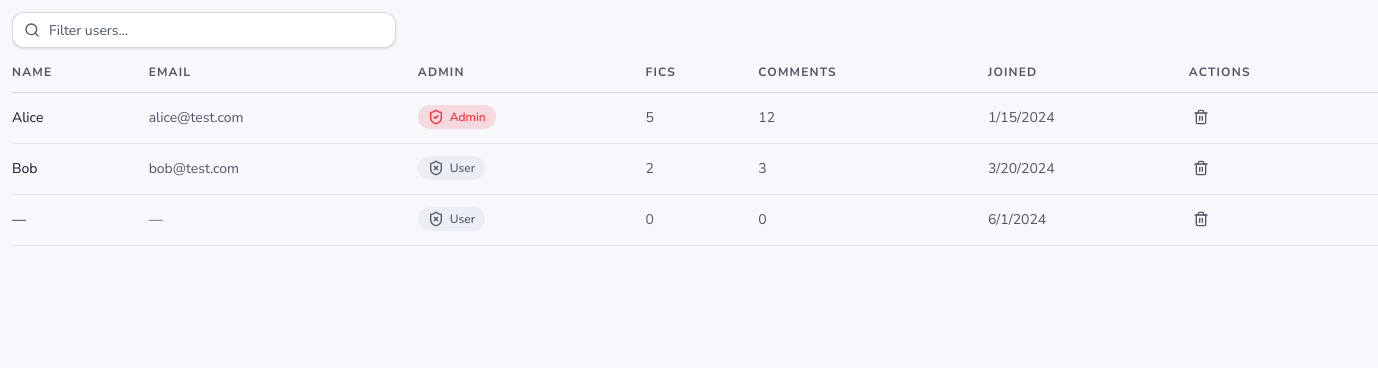
Test: UsersSection › shows empty state when no users match search
The image size is (1378, 368).
Expected: the link "Alice" is shown, [12,108,43,127]
Type "zzzzzzz" into the field with placeholder "Filter users…" at (204, 30), box [12,12,396,48]
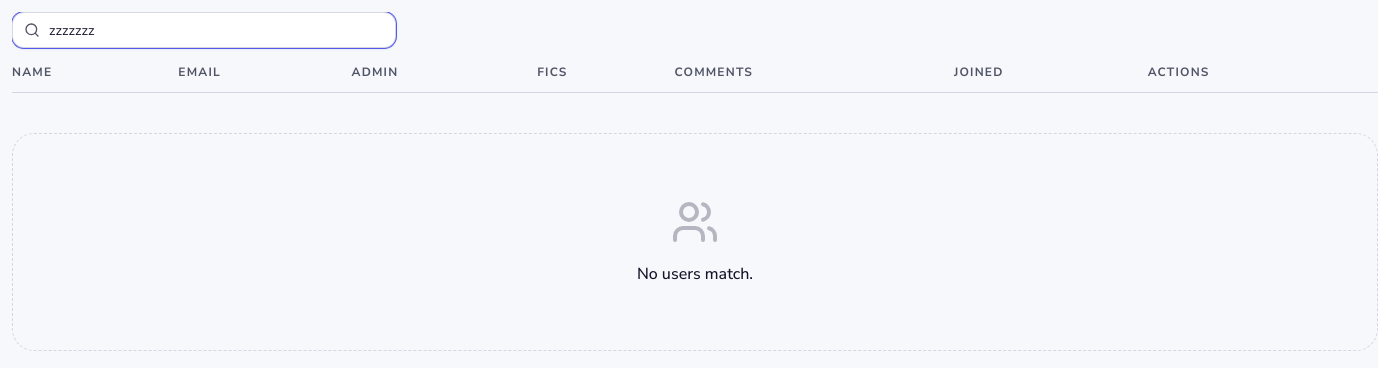
Result: the text "No users match." is shown at [637,262,753,286]
